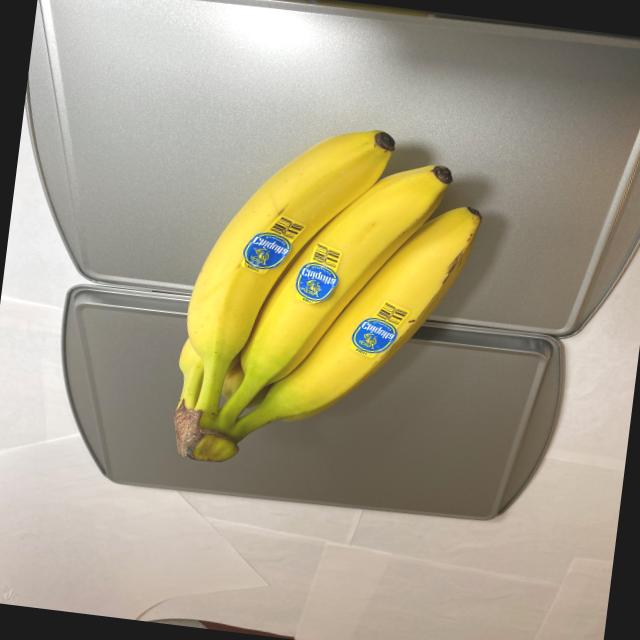banana: (156, 101, 494, 494)
